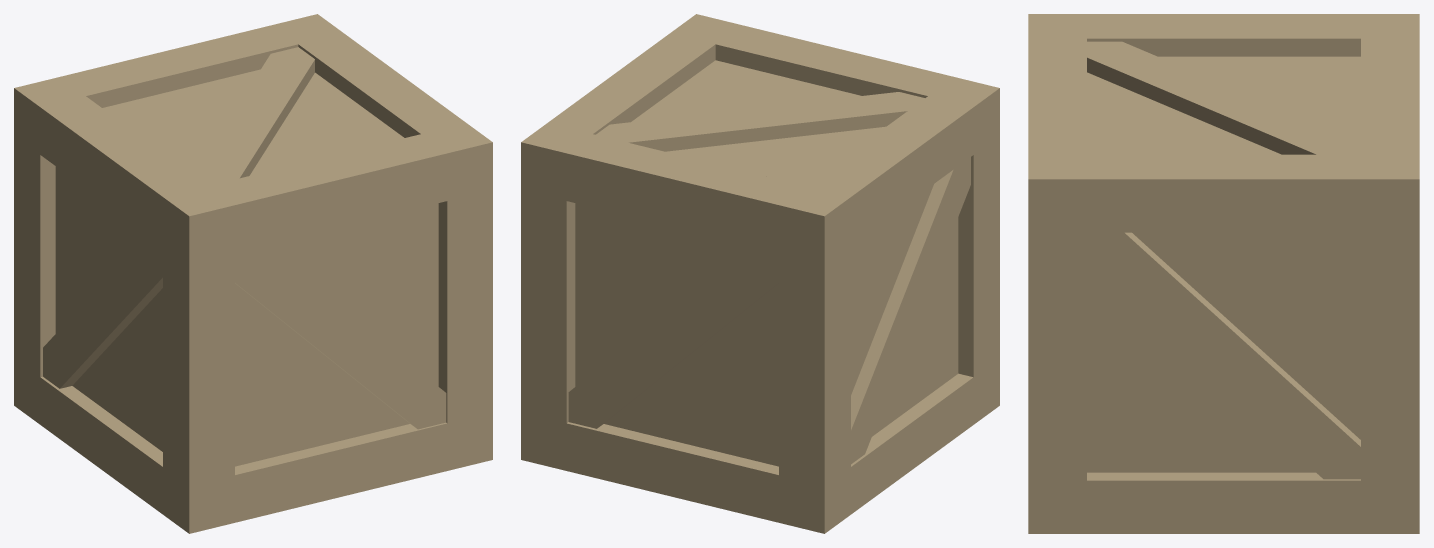
The model's file is Caisse_3.fbx.
3 renders of one model, left to right at view 1: azimuth 30°, elevation 25°; view 2: azimuth 150°, elevation 25°; view 3: azimuth 270°, elevation 25°, orthographic. The views are drawn at different scales.
Parts seen in each view (by area): view 1: Caisse; view 2: Caisse; view 3: Caisse.
Boxes of the visible parts, x1,y1,x2,y2 form: Caisse: (14,14,492,533); Caisse: (521,14,999,533); Caisse: (1028,14,1419,533).
Size of the model in its own units: 91.99 by 91.99 by 91.99.
